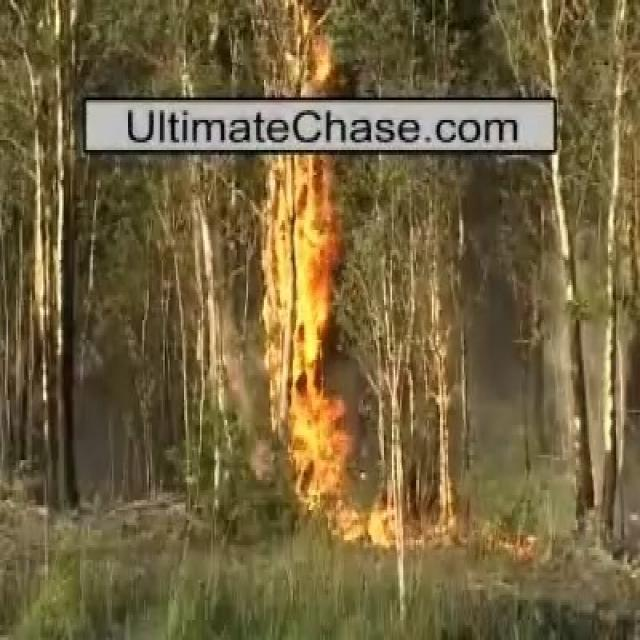fire: (267, 154, 331, 442)
smoke: (475, 312, 528, 450)
